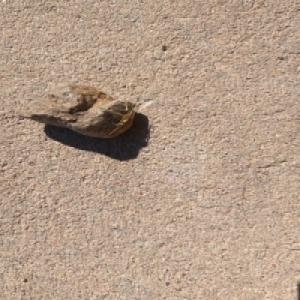Rock: (14, 79, 138, 139)
